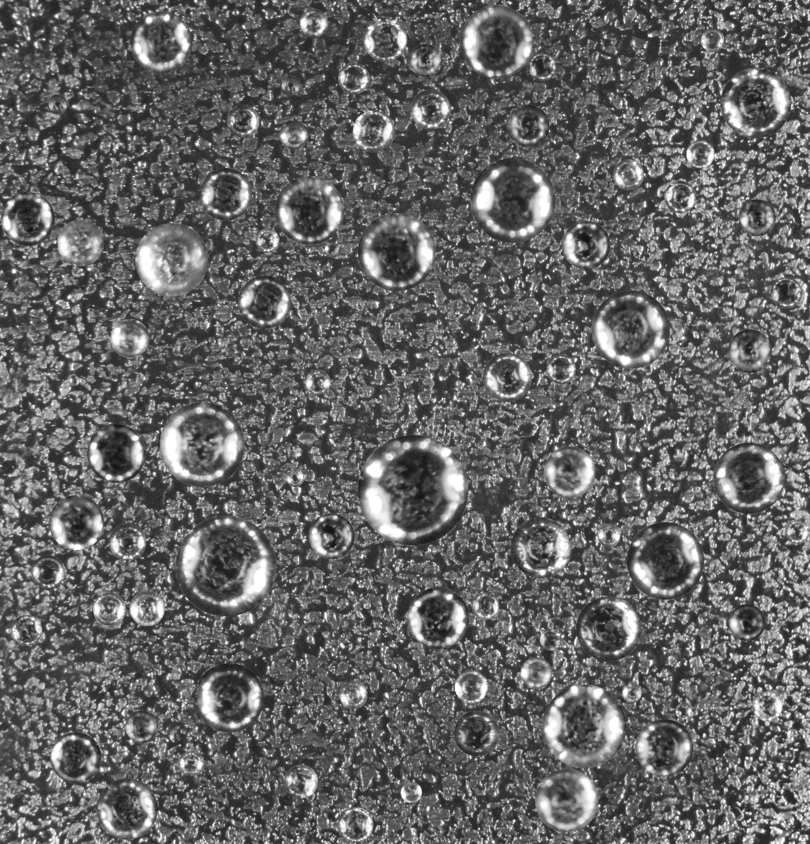Bubble: (357, 435, 468, 545), (175, 516, 276, 616), (470, 158, 555, 242), (159, 402, 244, 486), (542, 684, 626, 768), (591, 290, 669, 368), (626, 522, 704, 599), (358, 213, 435, 290), (135, 223, 208, 296), (460, 5, 533, 77), (713, 442, 784, 513), (720, 67, 791, 138), (194, 663, 263, 732), (275, 176, 343, 244), (576, 596, 641, 661), (535, 769, 598, 832), (407, 587, 469, 648), (96, 778, 157, 839), (510, 517, 571, 578), (130, 11, 191, 72), (87, 424, 145, 482), (635, 719, 693, 776), (49, 495, 103, 550), (238, 275, 291, 328), (1, 192, 54, 245), (199, 168, 251, 220), (50, 732, 101, 783), (544, 446, 595, 497), (482, 353, 531, 401), (562, 221, 610, 269), (57, 219, 103, 266), (308, 513, 354, 559), (454, 711, 499, 756), (363, 17, 406, 61), (728, 329, 771, 372), (506, 104, 549, 147), (352, 110, 394, 152), (410, 89, 450, 129), (110, 319, 149, 357), (738, 199, 775, 236), (109, 523, 146, 560), (728, 604, 765, 640), (337, 807, 373, 842), (129, 591, 164, 626), (284, 764, 317, 798), (454, 670, 487, 703), (226, 104, 259, 137), (31, 555, 64, 588), (125, 710, 157, 743), (93, 592, 125, 625), (409, 44, 442, 76), (664, 180, 696, 212), (770, 277, 802, 308), (520, 657, 552, 688), (338, 63, 369, 94), (752, 690, 782, 721), (613, 159, 643, 189), (546, 354, 576, 384), (11, 615, 41, 645), (279, 120, 308, 149), (528, 52, 556, 81), (686, 140, 714, 168), (339, 681, 367, 709), (299, 9, 327, 37), (471, 592, 499, 619), (178, 751, 203, 776), (305, 369, 330, 394), (255, 228, 279, 252), (785, 519, 809, 543), (701, 28, 724, 51), (597, 524, 620, 547), (400, 782, 421, 803), (540, 629, 561, 650), (280, 75, 300, 95), (47, 94, 67, 114), (622, 683, 641, 702), (675, 702, 692, 719), (286, 469, 303, 486), (324, 242, 339, 257), (69, 375, 79, 385)
